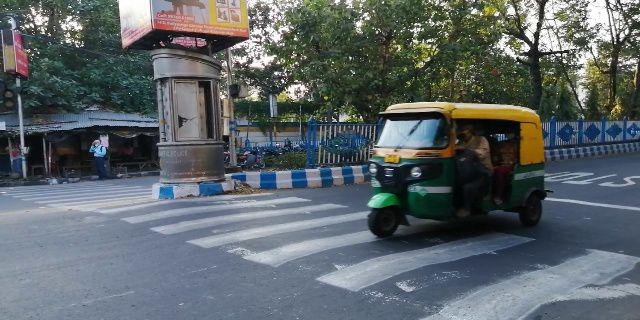Autorickshaw: (350, 96, 558, 240)
